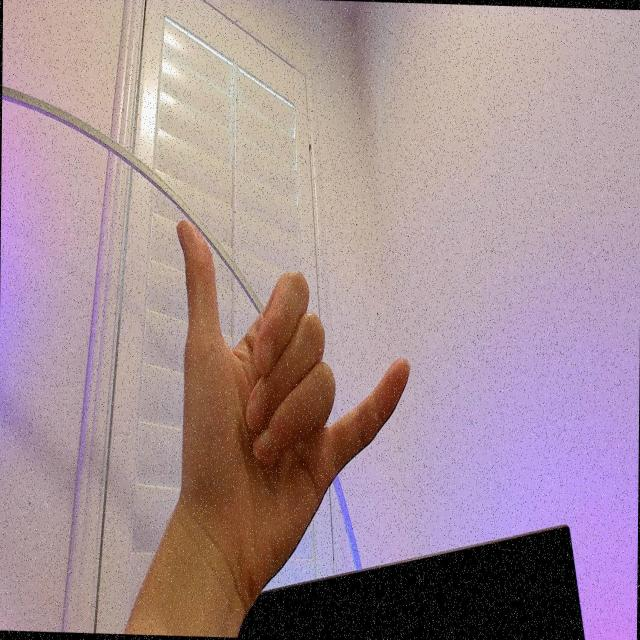Y: (162, 216, 425, 538)
